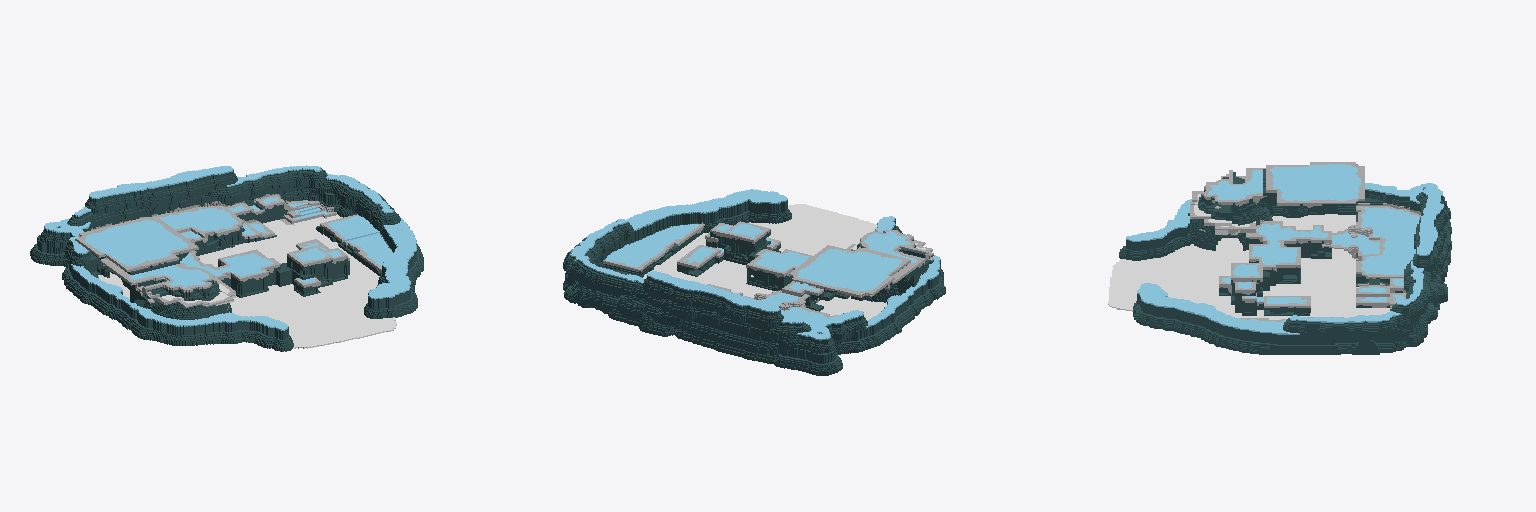
The picture shows the model from 3 angles: view 1: azimuth 30°, elevation 25°; view 2: azimuth 150°, elevation 25°; view 3: azimuth 270°, elevation 25°; orthographic projection.
Visible parts, largest first — view 1: object 1; view 2: object 1; view 3: object 1.
Boxes of the visible parts, <box> form: object 1: <box>30,165,423,351</box>; object 1: <box>563,189,945,375</box>; object 1: <box>1108,162,1451,354</box>.
Size of the model in its own units: 25 by 3.8 by 24.4.
Materials: 1 (1 with a texture image).